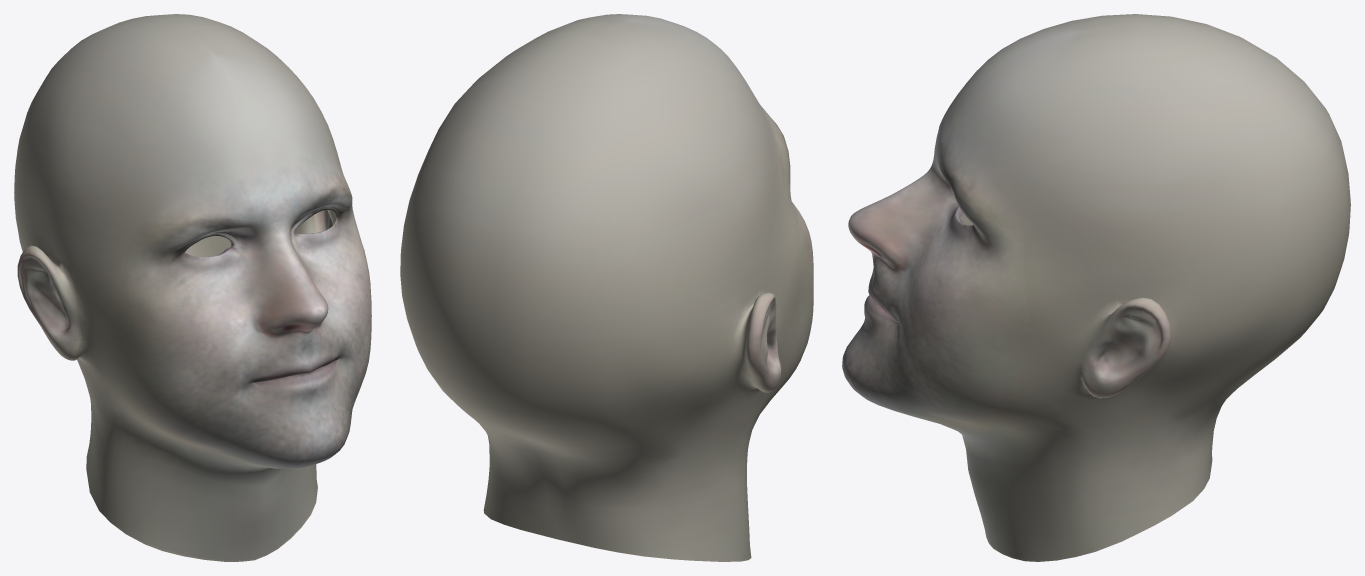
3 views of the same model, side by side, from view 1: azimuth 30°, elevation 25°; view 2: azimuth 150°, elevation 25°; view 3: azimuth 270°, elevation 25° (orthographic). The views are drawn at different scales.
Visible parts, largest first — view 1: FaceGen; view 2: FaceGen; view 3: FaceGen.
Part boxes in pixels (x1=…): FaceGen: x1=14, y1=14, x2=371, y2=561; FaceGen: x1=400, y1=14, x2=813, y2=561; FaceGen: x1=842, y1=14, x2=1350, y2=561.
Bounding box in the file's own units: 189 × 279 × 252.
Materials: 1 (1 with a texture image).
